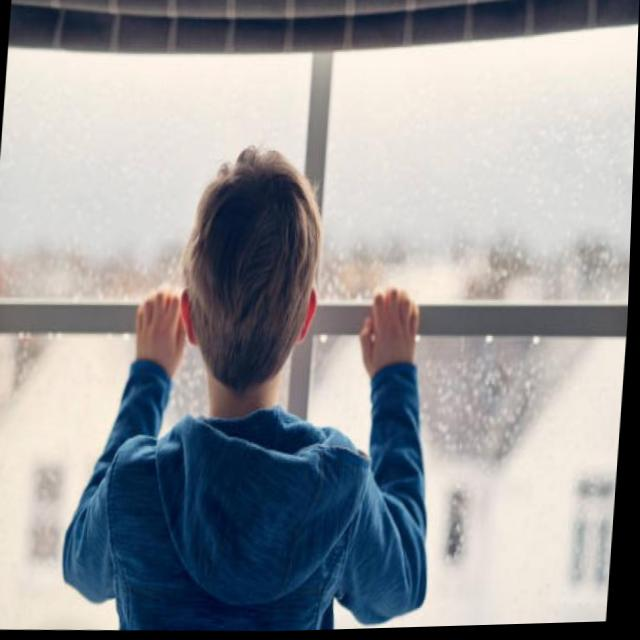no helmet: (179, 123, 346, 431)
